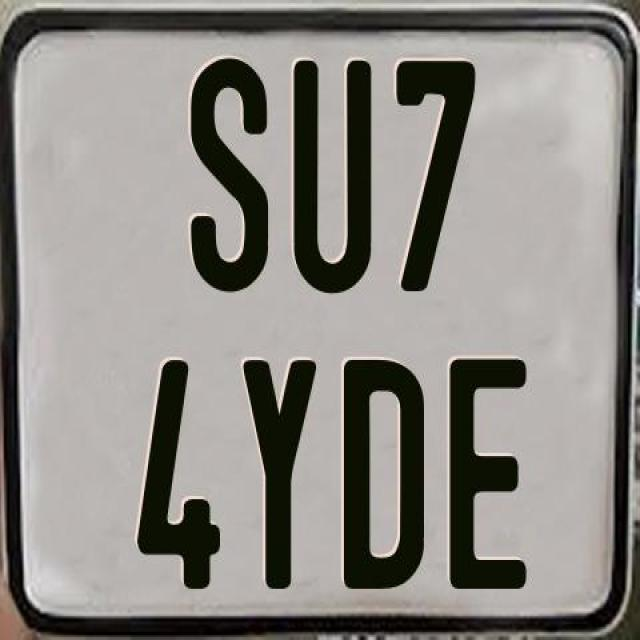4: (134, 358, 220, 594)
7: (396, 58, 480, 288)
D: (340, 356, 427, 594)
E: (446, 358, 524, 590)
S: (190, 58, 272, 298)
U: (289, 56, 367, 294)
Y: (240, 357, 316, 589)
